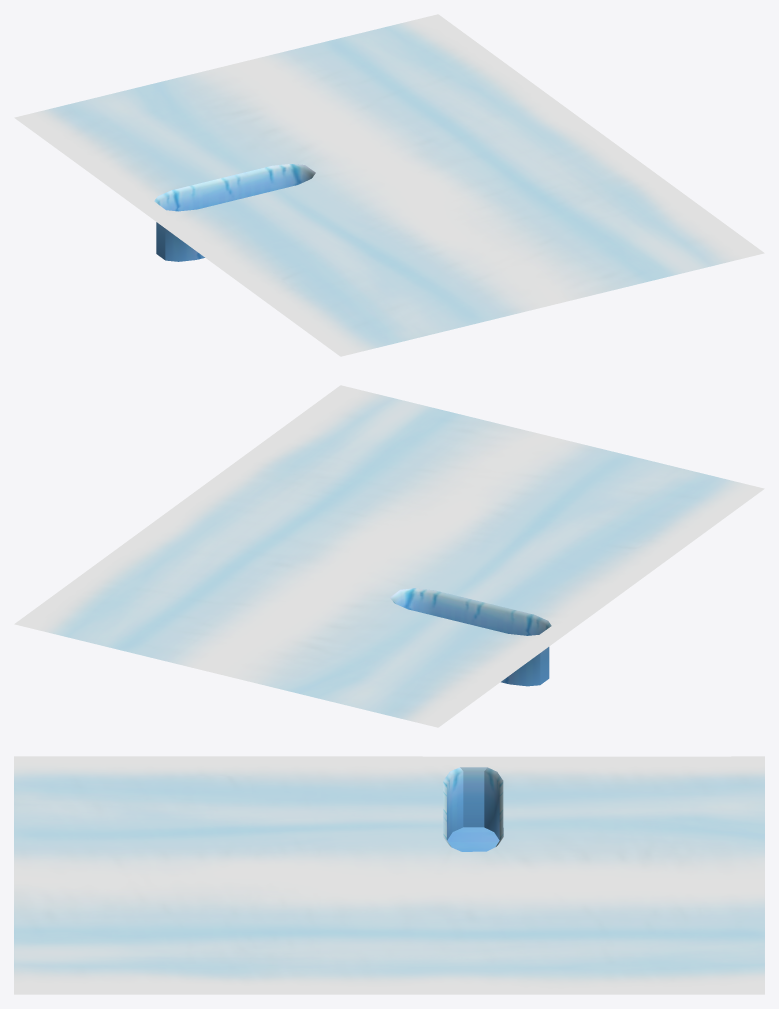
File: Hole_S_Size_04.FBX
3 views of the same model, one above another, from view 1: azimuth 30°, elevation 25°; view 2: azimuth 150°, elevation 25°; view 3: azimuth 270°, elevation 25° (orthographic). The views are drawn at different scales.
Visible parts, largest first — view 1: modelRoad069; view 2: modelRoad069; view 3: modelRoad069.
Boxes of the visible parts, left/top/right/bottom form: modelRoad069: left=14, top=14, right=764, bottom=356; modelRoad069: left=14, top=385, right=764, bottom=727; modelRoad069: left=14, top=756, right=764, bottom=994.
Bounding box in the file's own units: 600 × 70 × 800.
